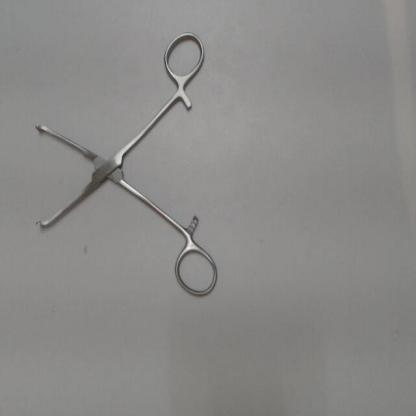Allis Tissue Forceps: (33, 23, 222, 306)
